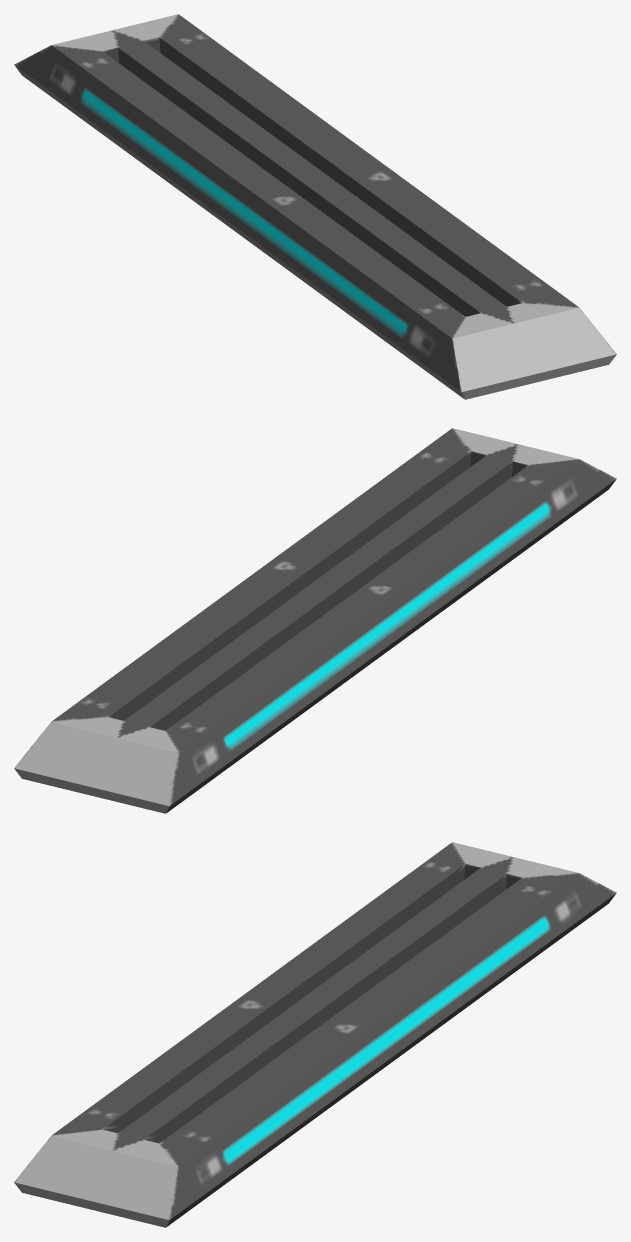
File: Sierra Circular Doble_Base.glb
3 renders of one model, top to bottom at view 1: azimuth 30°, elevation 25°; view 2: azimuth 150°, elevation 25°; view 3: azimuth 330°, elevation 25°, orthographic.
Parts seen in each view (by area): view 1: Cube.001; view 2: Cube.001; view 3: Cube.001.
Part boxes in pixels (box(x1,y1,x2,y2)): Cube.001: box(14, 14, 616, 399); Cube.001: box(14, 428, 616, 813); Cube.001: box(14, 842, 616, 1227).
Bounding box in the file's own units: 1.43 × 0.3835 × 7.11.
1 material, 1 textured.
